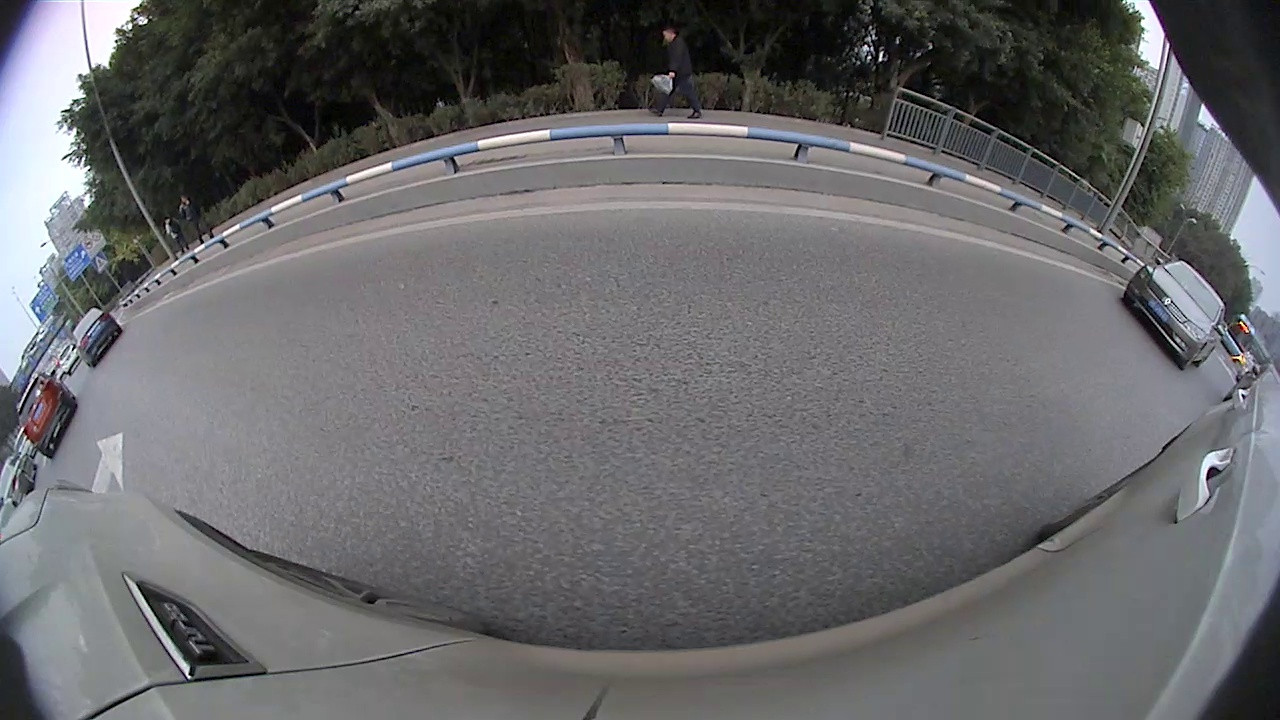bus: (1220, 312, 1259, 361)
car: (1120, 255, 1224, 370), (13, 373, 79, 458), (69, 307, 125, 369), (1223, 362, 1278, 413), (1, 452, 39, 504), (9, 423, 41, 460), (57, 343, 83, 369)
front: (1175, 342, 1204, 371), (1118, 285, 1139, 310)
person: (665, 23, 690, 124), (180, 190, 201, 250), (164, 213, 181, 258)
